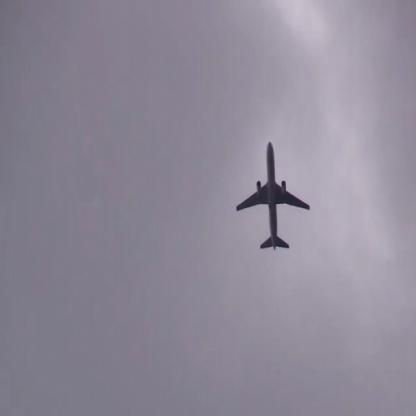CIV_Plane: (236, 140, 311, 248)
